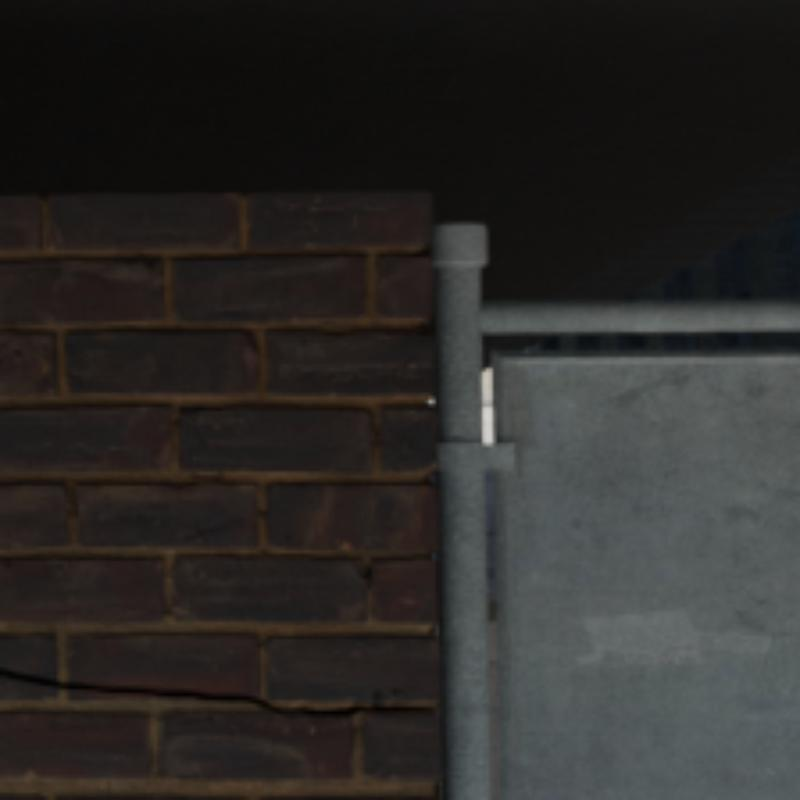pothole: (0, 668, 431, 717)
